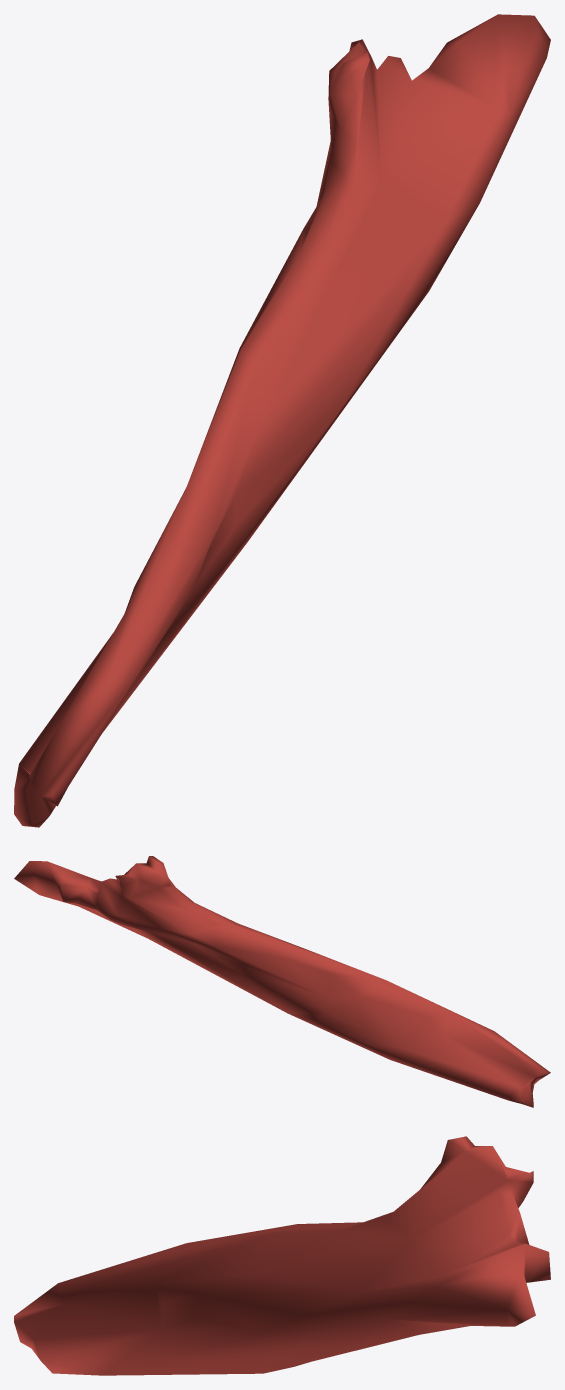
Rendered from musculos-opponens-pollicis-muscle-r.glb.
3 renders of one model, top to bottom at view 1: azimuth 30°, elevation 25°; view 2: azimuth 150°, elevation 25°; view 3: azimuth 270°, elevation 25°, orthographic. The views are drawn at different scales.
Parts seen in each view (by area): view 1: Opponens pollicis muscle.r; view 2: Opponens pollicis muscle.r; view 3: Opponens pollicis muscle.r.
Part boxes in pixels (left/top/right/bottom): Opponens pollicis muscle.r: left=14, top=14, right=550, bottom=827; Opponens pollicis muscle.r: left=14, top=856, right=550, bottom=1107; Opponens pollicis muscle.r: left=14, top=1136, right=550, bottom=1375.
Bounding box in the file's own units: 0.0463 × 0.0284 × 0.0279.
